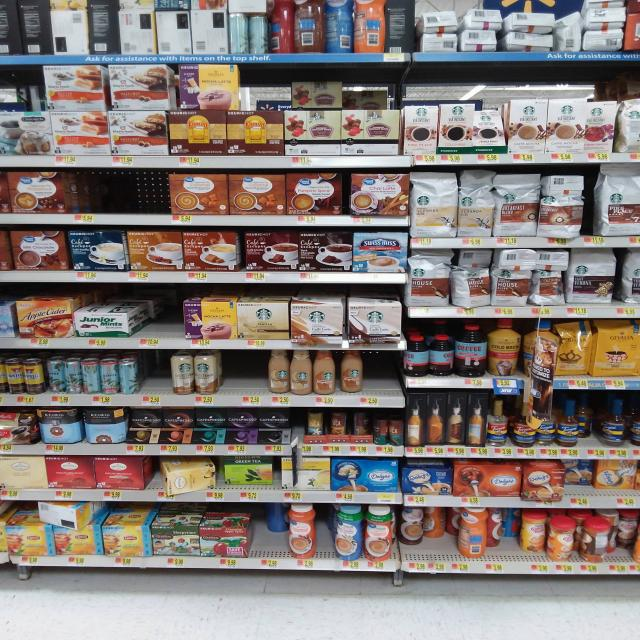void: (132, 289, 182, 348), (220, 350, 265, 408), (606, 248, 640, 320), (72, 169, 109, 229), (368, 353, 401, 412), (140, 162, 168, 229), (139, 354, 168, 406), (117, 162, 136, 230)
